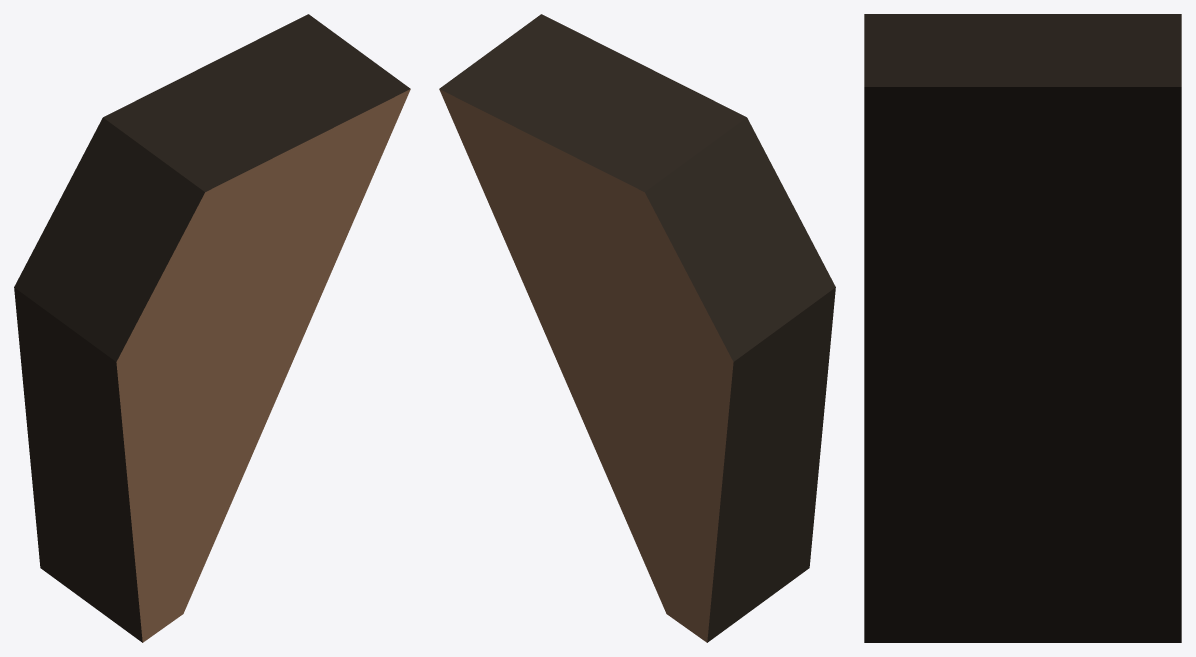
The model's file is SM_DoorShard_03_14.fbx.
3 views of the same model, side by side, from view 1: azimuth 30°, elevation 25°; view 2: azimuth 150°, elevation 25°; view 3: azimuth 270°, elevation 25° (orthographic). The views are drawn at different scales.
Parts seen in each view (by area): view 1: SM_DoorShard_03_14; view 2: SM_DoorShard_03_14; view 3: SM_DoorShard_03_14.
Part boxes in pixels (left/top/right/bottom): SM_DoorShard_03_14: left=14, top=14, right=410, bottom=642; SM_DoorShard_03_14: left=439, top=14, right=835, bottom=642; SM_DoorShard_03_14: left=864, top=14, right=1181, bottom=642.
Bounding box in the file's own units: 26.58 × 16 × 42.14.
